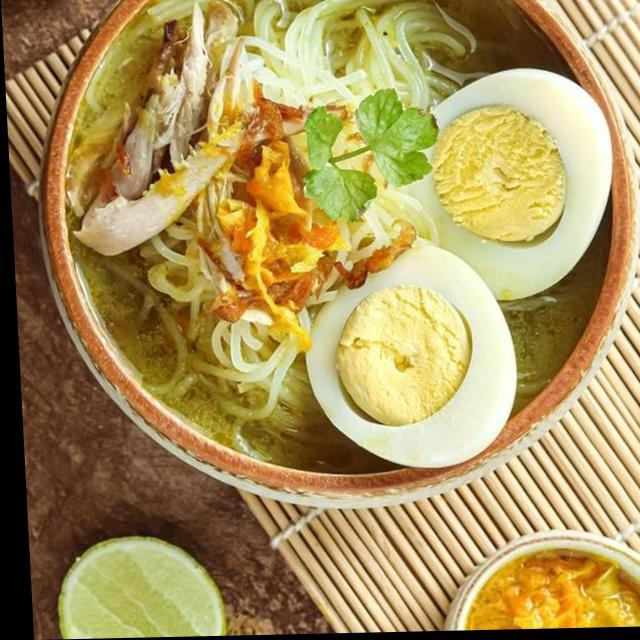Soto: (72, 0, 607, 485)
